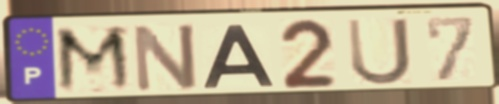2: (277, 16, 340, 92)
7: (424, 14, 477, 84)
A: (199, 23, 277, 90)
M: (52, 24, 137, 96)
N: (131, 21, 201, 95)
U: (344, 15, 415, 87)
